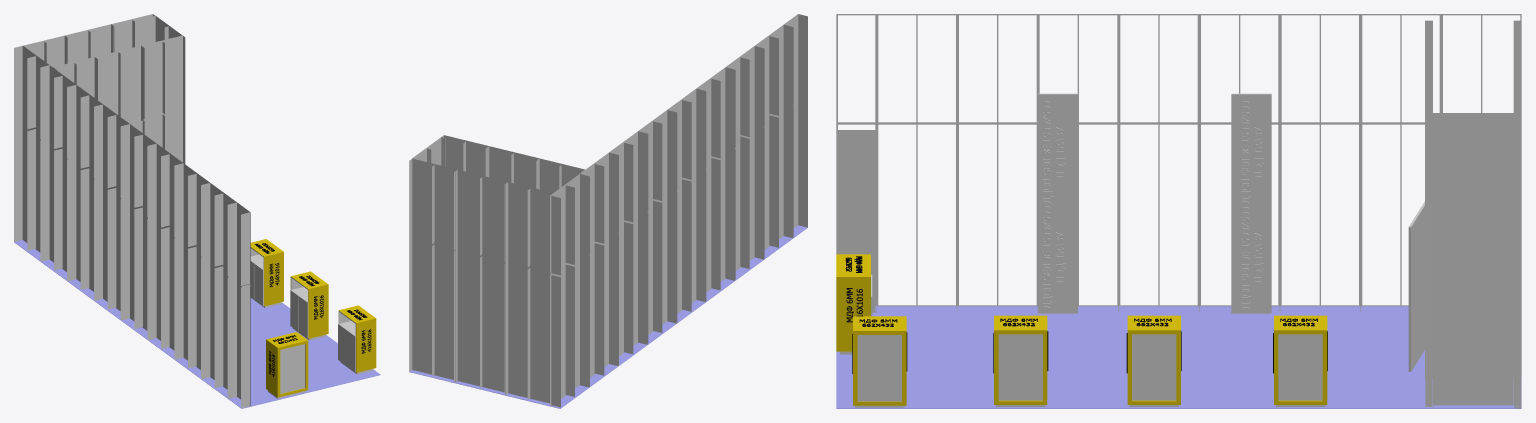
File: САНКТ-ПЕТЕРБУРГ_ 5 .glb
3 renders of one model, left to right at view 1: azimuth 30°, elevation 25°; view 2: azimuth 150°, elevation 25°; view 3: azimuth 270°, elevation 25°, orthographic. The views are drawn at different scales.
Parts seen in each view (by area): view 1: Geom3D_Короб 2500×1000×200 (×8), Geom3D_Короб 1500×1000×200 (×8), Geom3D_ (×18), Geom3D_Короб 1500×900×100 (×4), Geom3D_Короб 1500×1000×100 (×3), Geom3D_Короб 2500×500×200, Geom3D_Короб 1500×500×200, Geom3D_Короб 2500×900×100; view 2: Geom3D_Короб 2500×1000×200 (×8), Geom3D_Короб 1500×1000×200 (×8), Geom3D_Короб 2500×900×100 (×2), Geom3D_Короб 1500×900×100 (×4), Geom3D_Короб 2500×1000×100, Geom3D_Короб 1500×1000×100 (×3), Geom3D_ (×3), Geom3D_Короб 2500×500×200, Geom3D_Короб 1500×500×200; view 3: Geom3D_ (×20), Geom3D_Короб 2500×1000×100, Geom3D_Короб 1500×1000×100, Geom3D_Короб 2500×1000×200 (×7), Geom3D_Короб 1500×1000×200 (×7), Geom3D_Короб 2500×500×200, Geom3D_ЛДСП БЕЛОЕ 1500Х (×4), Geom3D_Короб 2500×900×100 (×2), Geom3D_Короб 1500×900×100 (×2).
Boxes of the visible parts, x1,y1,x2,y2 form: Geom3D_Короб 2500×1000×200 (×8): [14, 118, 228, 397]; Geom3D_Короб 1500×1000×200 (×8): [14, 46, 236, 275]; Geom3D_ (×18): [14, 202, 380, 408]; Geom3D_Короб 1500×900×100 (×4): [23, 14, 185, 118]; Geom3D_Короб 1500×1000×100 (×3): [65, 16, 182, 121]; Geom3D_Короб 2500×500×200: [228, 275, 250, 408]; Geom3D_Короб 1500×500×200: [228, 202, 250, 286]; Geom3D_Короб 2500×900×100: [143, 108, 185, 163]; Geom3D_Короб 2500×1000×200 (×8): [550, 104, 793, 407]; Geom3D_Короб 1500×1000×200 (×8): [550, 24, 793, 275]; Geom3D_Короб 2500×900×100 (×2): [409, 238, 550, 404]; Geom3D_Короб 1500×900×100 (×4): [409, 135, 584, 272]; Geom3D_Короб 2500×1000×100: [454, 249, 505, 393]; Geom3D_Короб 1500×1000×100 (×3): [412, 137, 539, 261]; Geom3D_ (×3): [409, 173, 807, 408]; Geom3D_Короб 2500×500×200: [793, 93, 807, 236]; Geom3D_Короб 1500×500×200: [784, 14, 807, 104]; Geom3D_ (×20): [836, 93, 1521, 408]; Geom3D_Короб 2500×1000×100: [1433, 222, 1513, 407]; Geom3D_Короб 1500×1000×100: [1433, 113, 1513, 225]; Geom3D_Короб 2500×1000×200 (×7): [876, 123, 1424, 312]; Geom3D_Короб 1500×1000×200 (×7): [876, 14, 1440, 129]; Geom3D_Короб 2500×500×200: [836, 123, 876, 312]; Geom3D_ЛДСП БЕЛОЕ 1500Х (×4): [1043, 101, 1263, 309]; Geom3D_Короб 2500×900×100 (×2): [1425, 195, 1521, 408]; Geom3D_Короб 1500×900×100 (×2): [1425, 85, 1521, 225].
Bounding box in the file's own units: 3.02 × 4.01 × 8.5.
